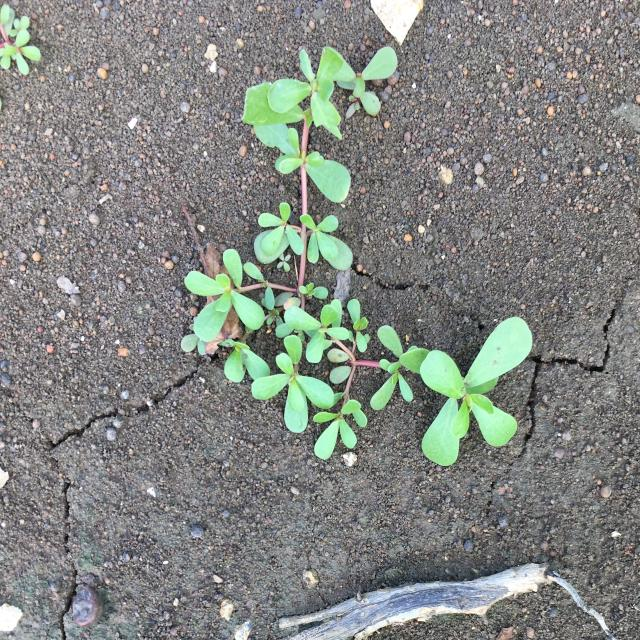Purslane: (180, 46, 532, 466), (0, 5, 41, 75)
